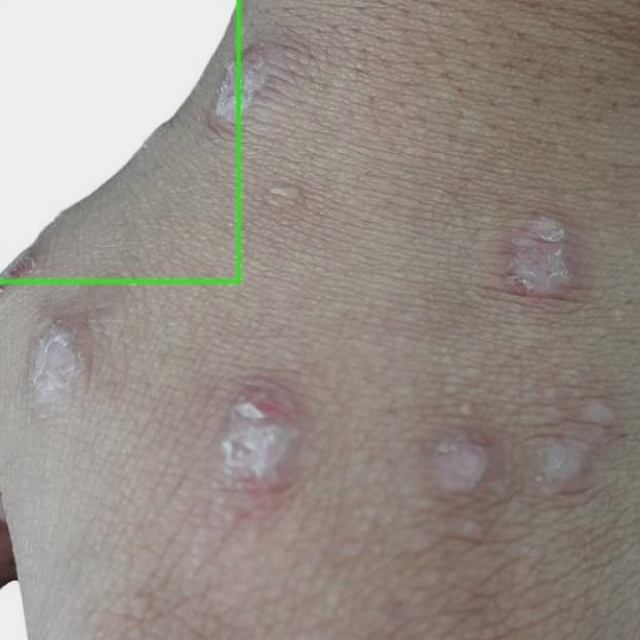Contact Dermatitis: (0, 0, 238, 281)
